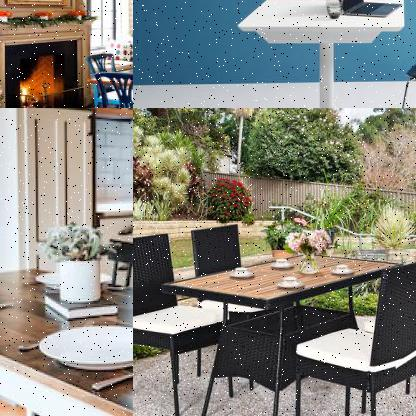table: (158, 247, 410, 415), (0, 263, 132, 415), (232, 0, 408, 107), (72, 53, 132, 107)
